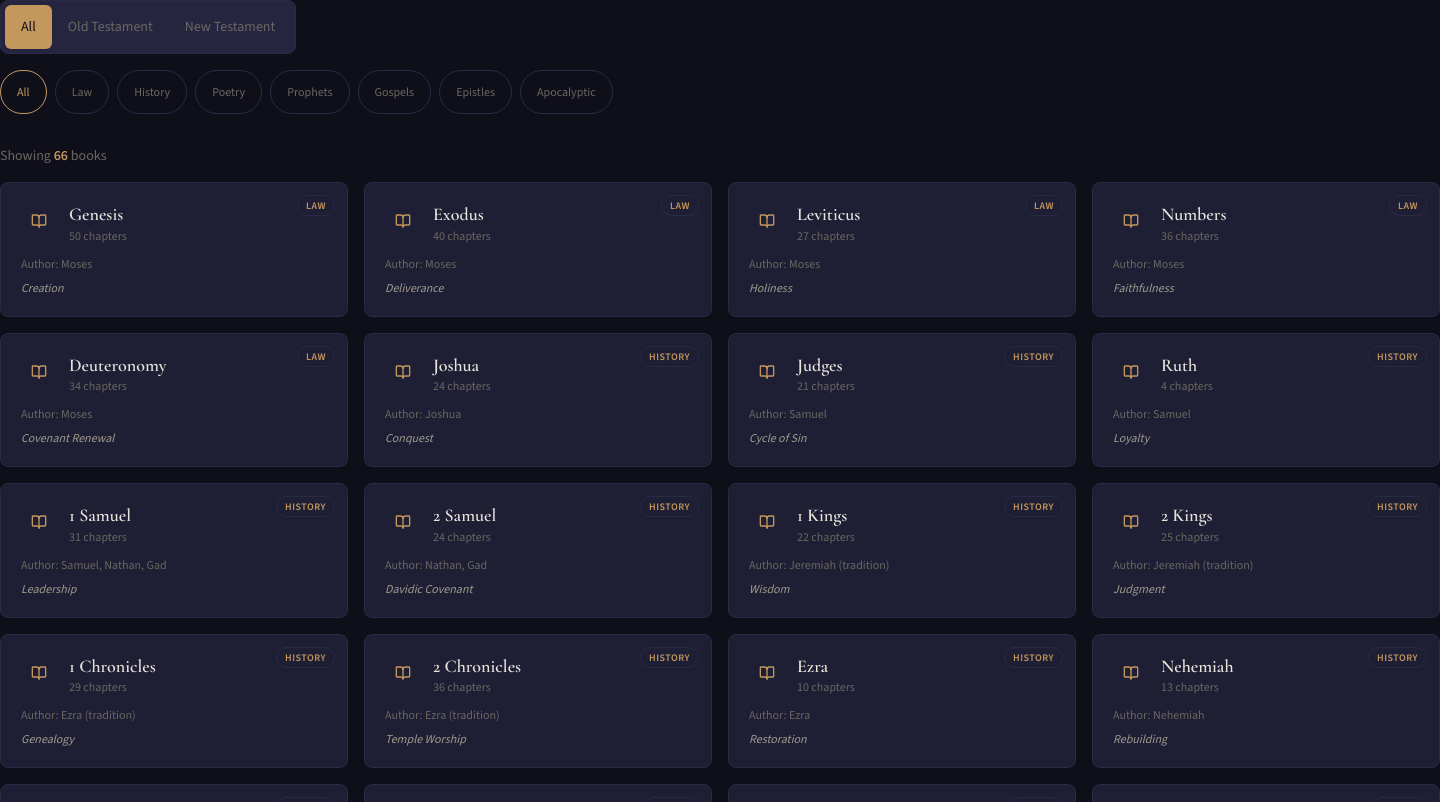
Test: BookGrid › filters by category when a category chip is clicked
Click the radio button "Law": {"x": 82, "y": 92} [55, 70, 109, 114]
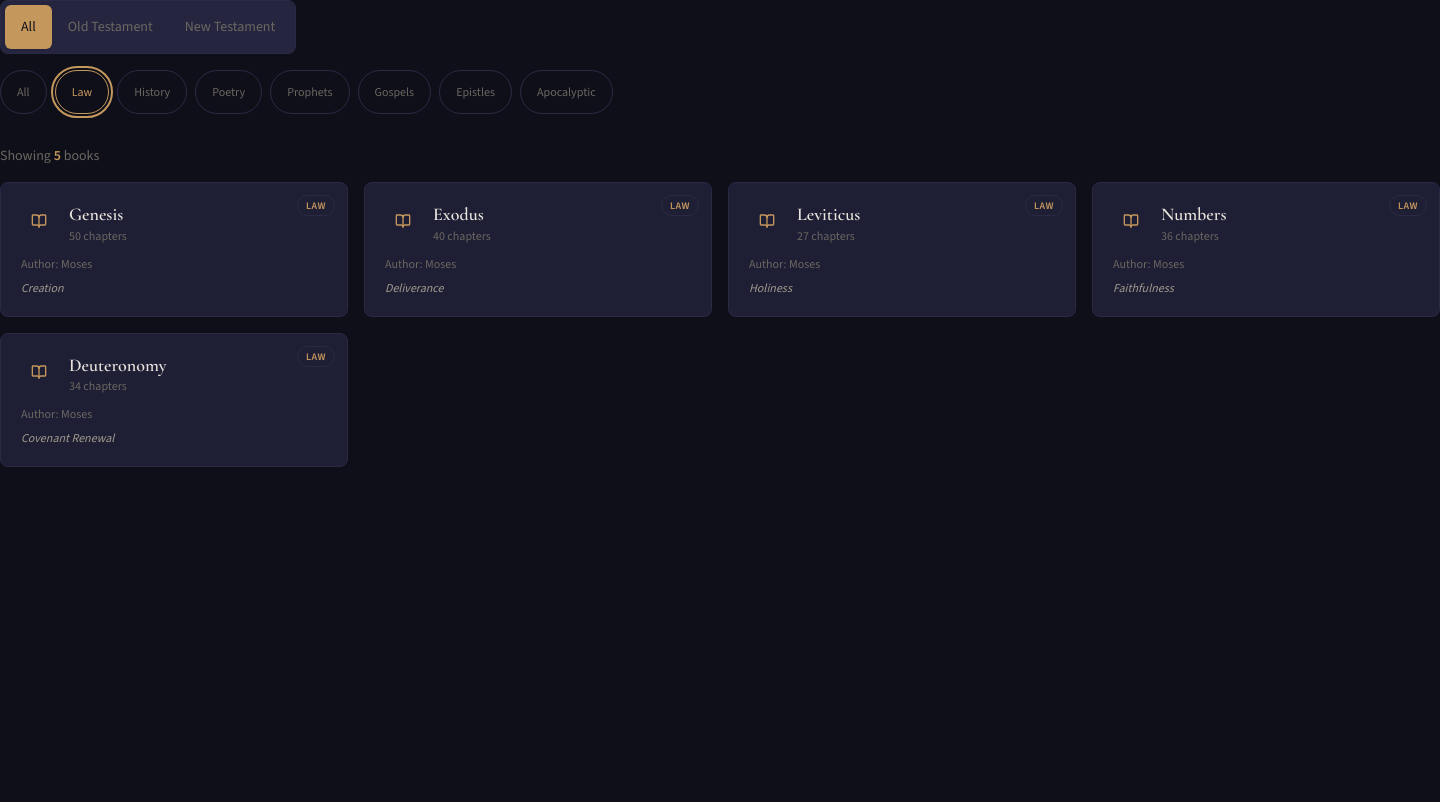
Expected: the heading "Genesis" is shown, [69, 203, 127, 226]
Expected: the text "5" is shown, [54, 146, 61, 165]
